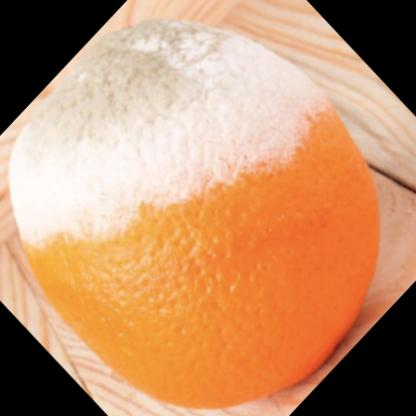rotten: (11, 22, 385, 407)
